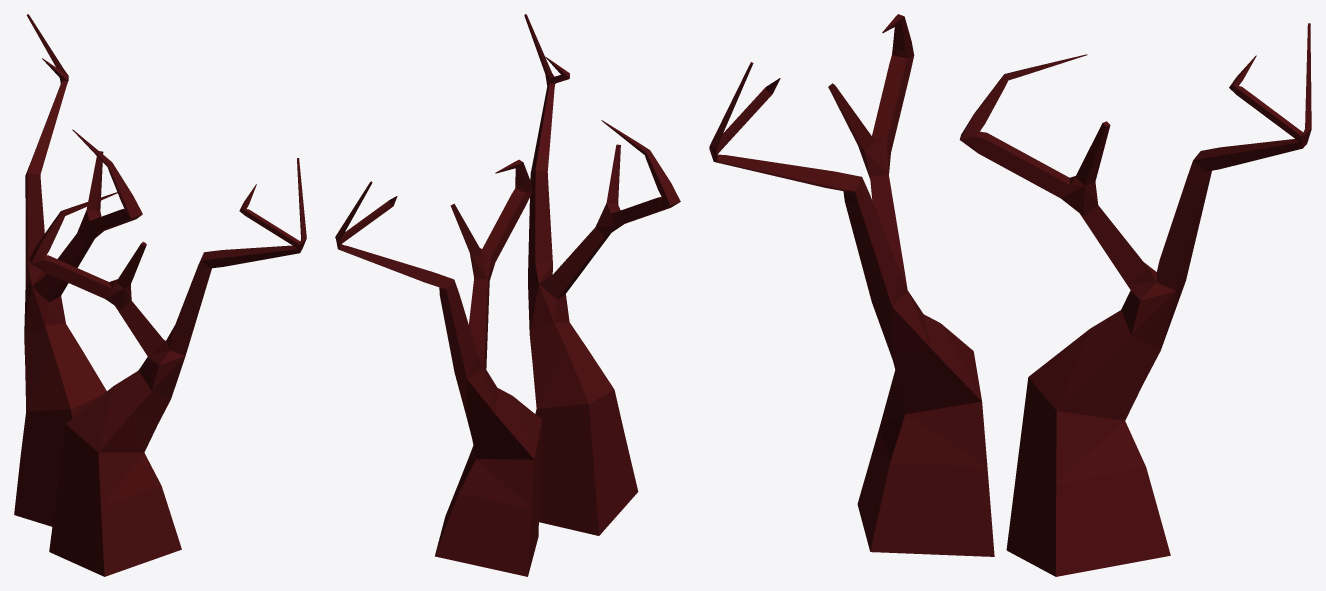
File: lowpolydeadtreepair.obj
The picture shows the model from 3 angles, left to right: view 1: azimuth 30°, elevation 25°; view 2: azimuth 150°, elevation 25°; view 3: azimuth 270°, elevation 25°; orthographic projection. The views are drawn at different scales.
Parts seen in each view (by area): view 1: Cube.001, Cube; view 2: Cube.001, Cube; view 3: Cube, Cube.001.
Part boxes in pixels (box(x1,y1,x2,y2)): Cube.001: box(29, 158, 306, 576); Cube: box(14, 14, 142, 526); Cube.001: box(524, 14, 680, 535); Cube: box(335, 159, 542, 576); Cube: box(959, 23, 1311, 576); Cube.001: box(709, 14, 994, 556).
Size of the model in its own units: 0.8098 by 1.56 by 1.52.
